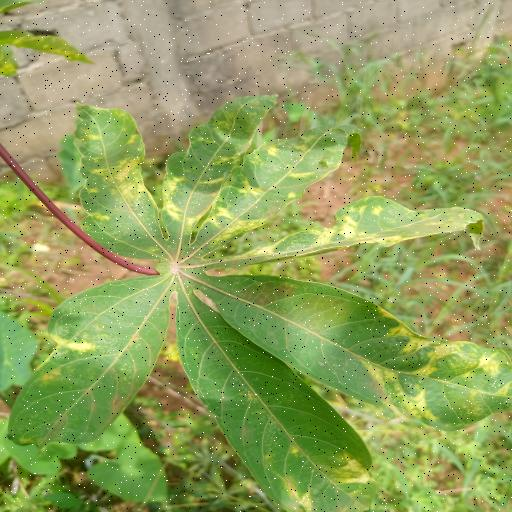Cassava_Mosaic: (6, 91, 512, 512)
